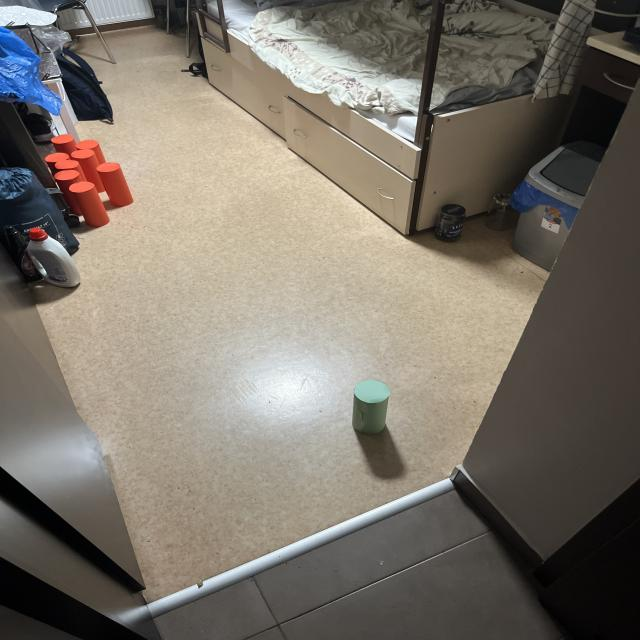meta: (352, 380, 390, 434)
